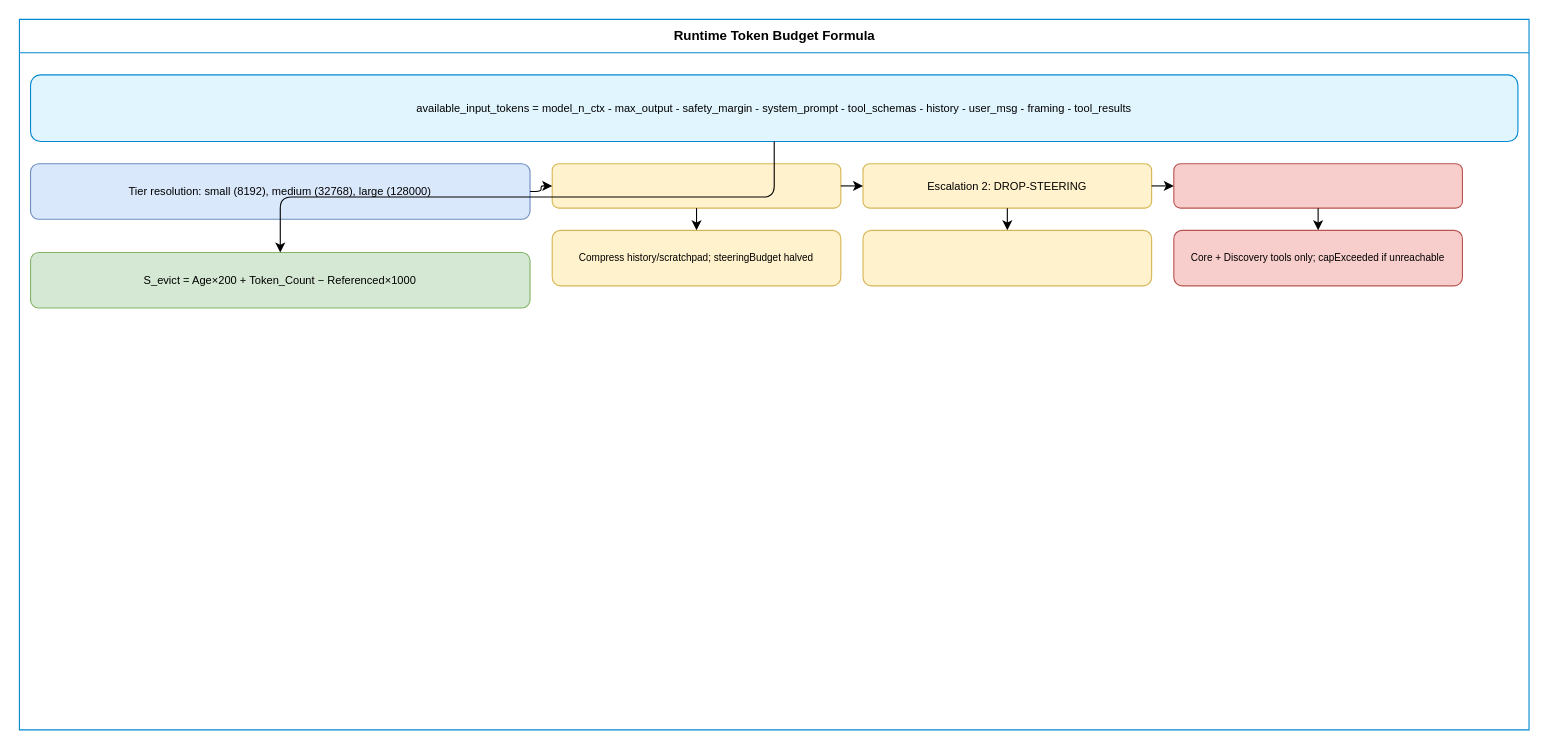
The diagram is 1548 pixels wide and 749 high, and some of its shapes have lost their labels. Each missing label, with the centre of its shape:
"Escalation 1: COMPRESS" belongs at [696,185].
"Escalation 3: MIN-LOADOUT" belongs at [1317,185].
"Remove steering docs; minLoadout=true" belongs at [1007,257].
